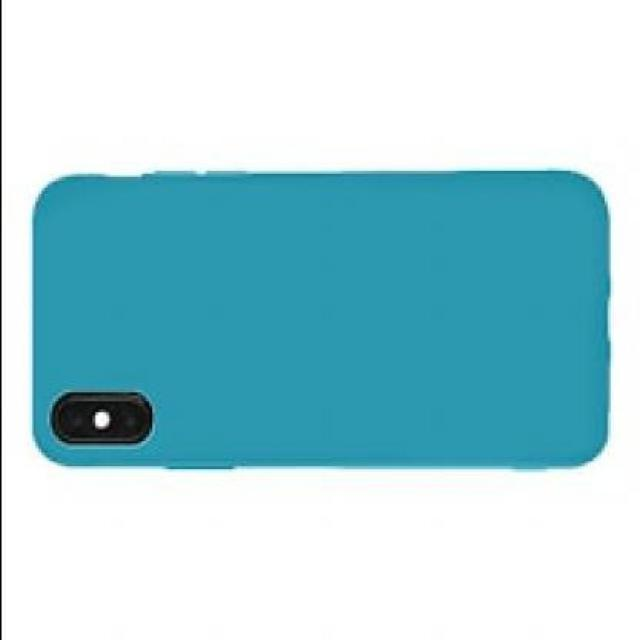phone: (31, 171, 600, 467)
